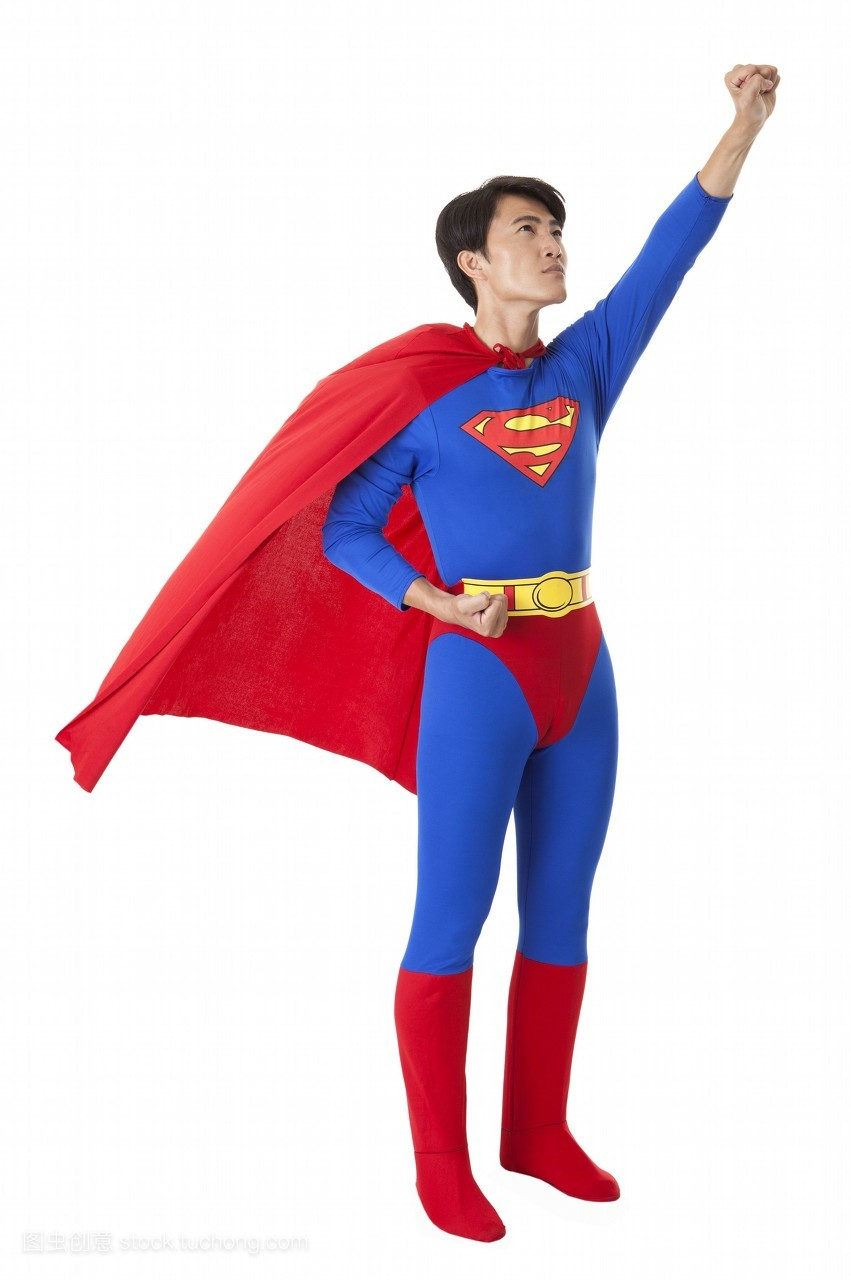handsup: (65, 61, 791, 1253)
